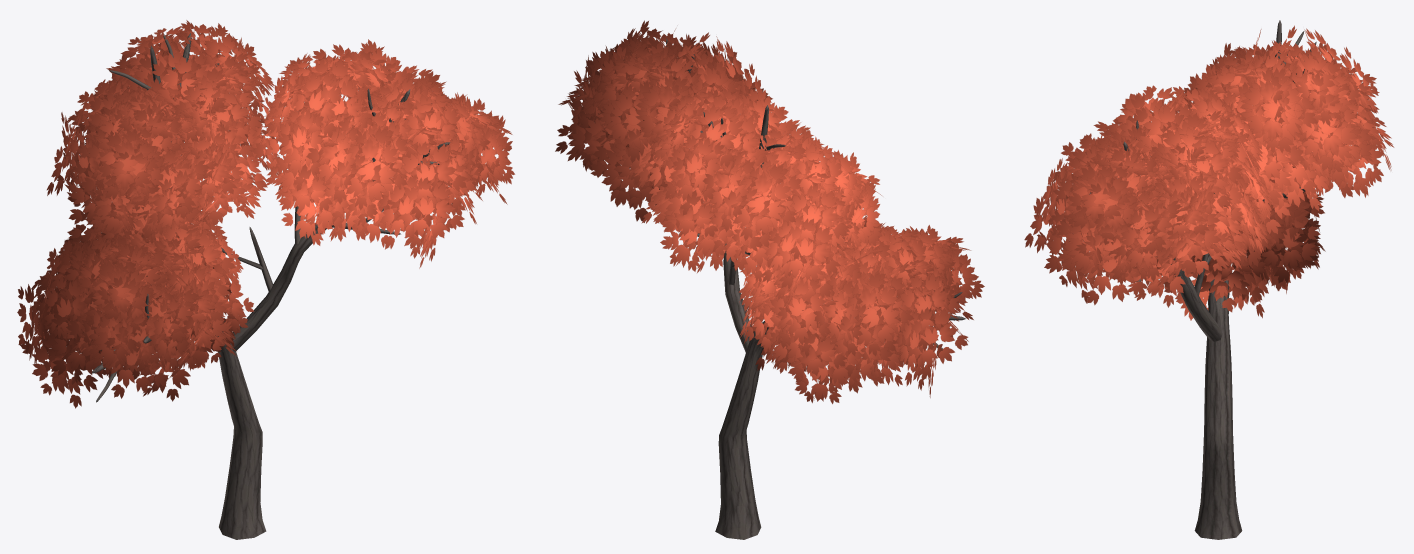
The model's file is quaternius-nature-maple-5.glb.
3 views of the same model, side by side, from view 1: azimuth 30°, elevation 25°; view 2: azimuth 150°, elevation 25°; view 3: azimuth 270°, elevation 25° (orthographic). The views are drawn at different scales.
Visible parts, largest first — view 1: MapleTree_5; view 2: MapleTree_5; view 3: MapleTree_5.
Boxes of the visible parts, <box> form: MapleTree_5: <box>17,20,514,539</box>; MapleTree_5: <box>555,20,984,539</box>; MapleTree_5: <box>1024,20,1394,539</box>.
Bounding box in the file's own units: 7.01 × 7.28 × 5.08.
2 materials, 2 textured.
